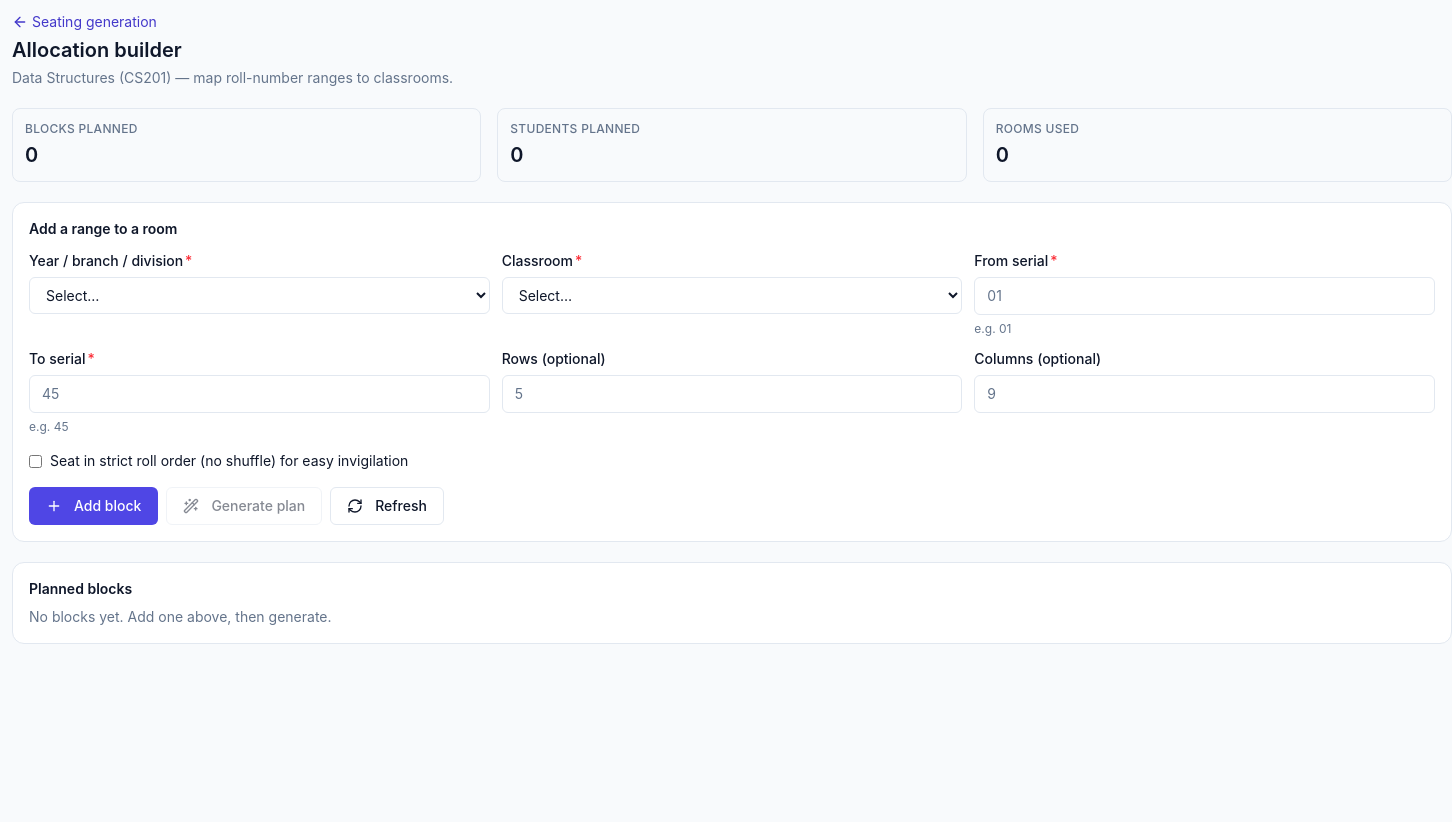
Test case: AllocationBuilderPage › surfaces the structured reason when a block is rejected
Select "SE · AIDS · C (30)" in the dropdown labelled "Year / branch / division*" at (259, 296), box [29,277,490,314]
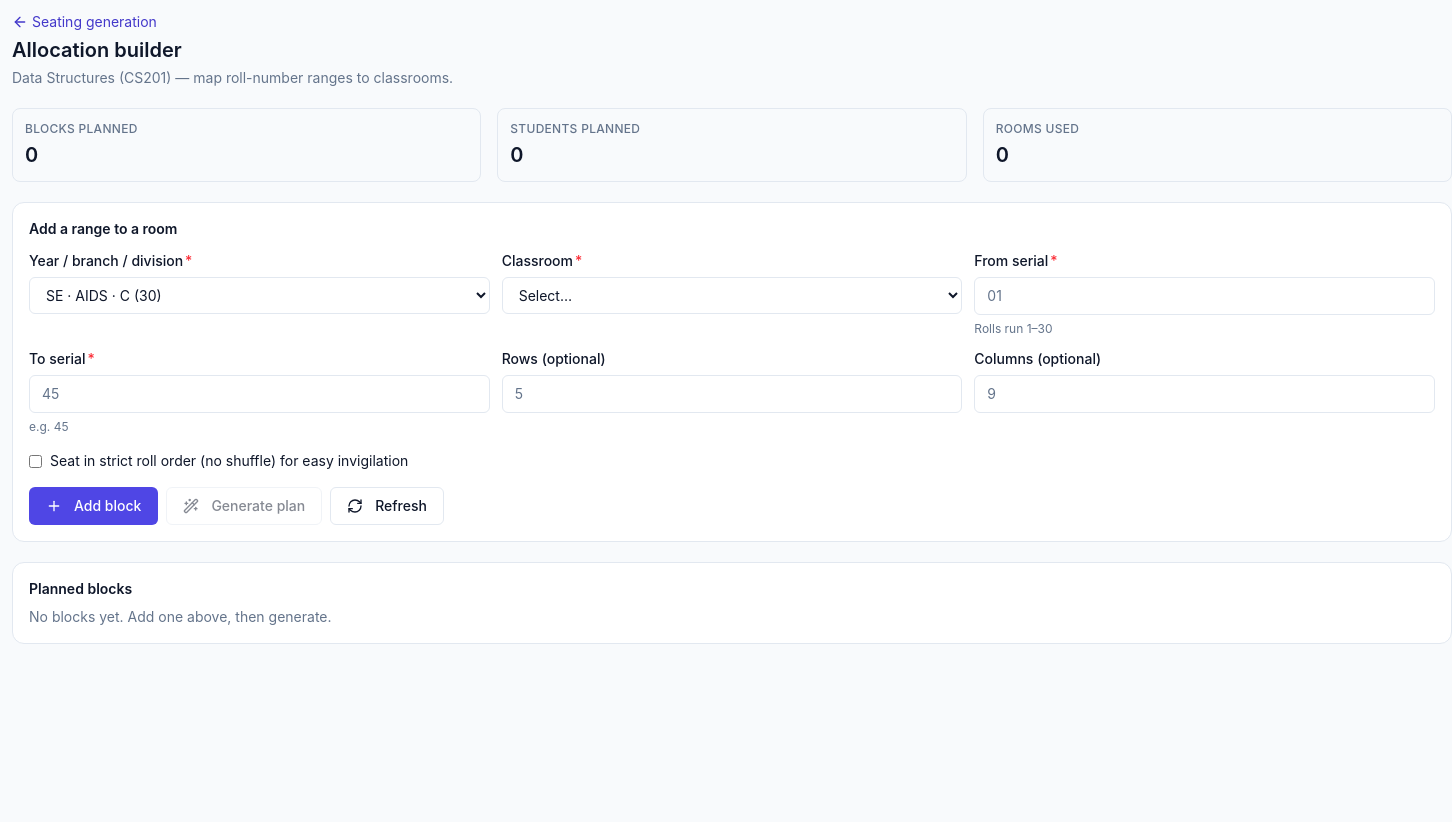
Select "706 · Floor 7 (60 free)" in the dropdown labelled "Classroom*" at (732, 296), box [502,277,962,314]
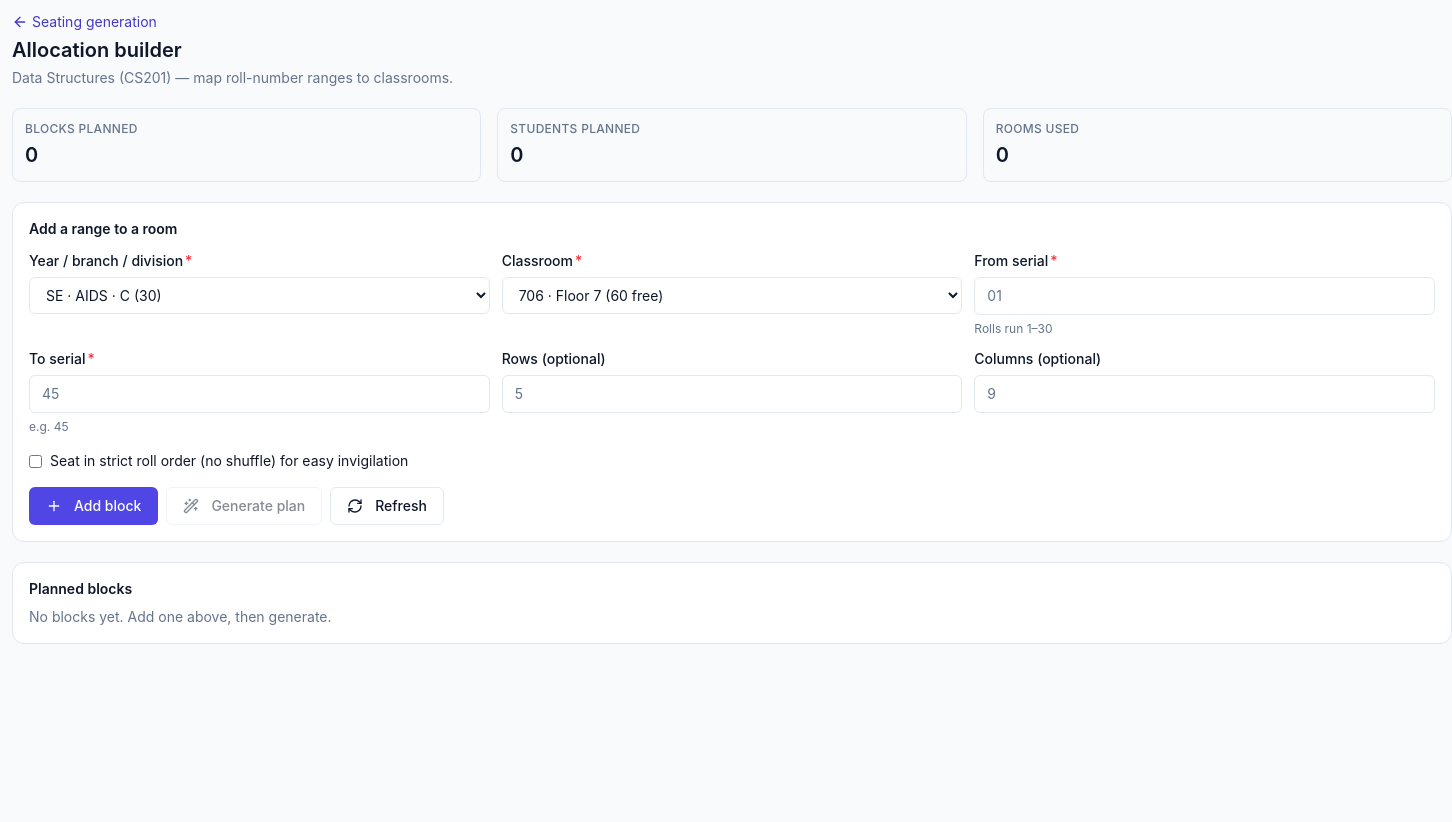
Type "1" into the number field labelled "From serial*" at (1205, 296), box [974,277,1435,315]
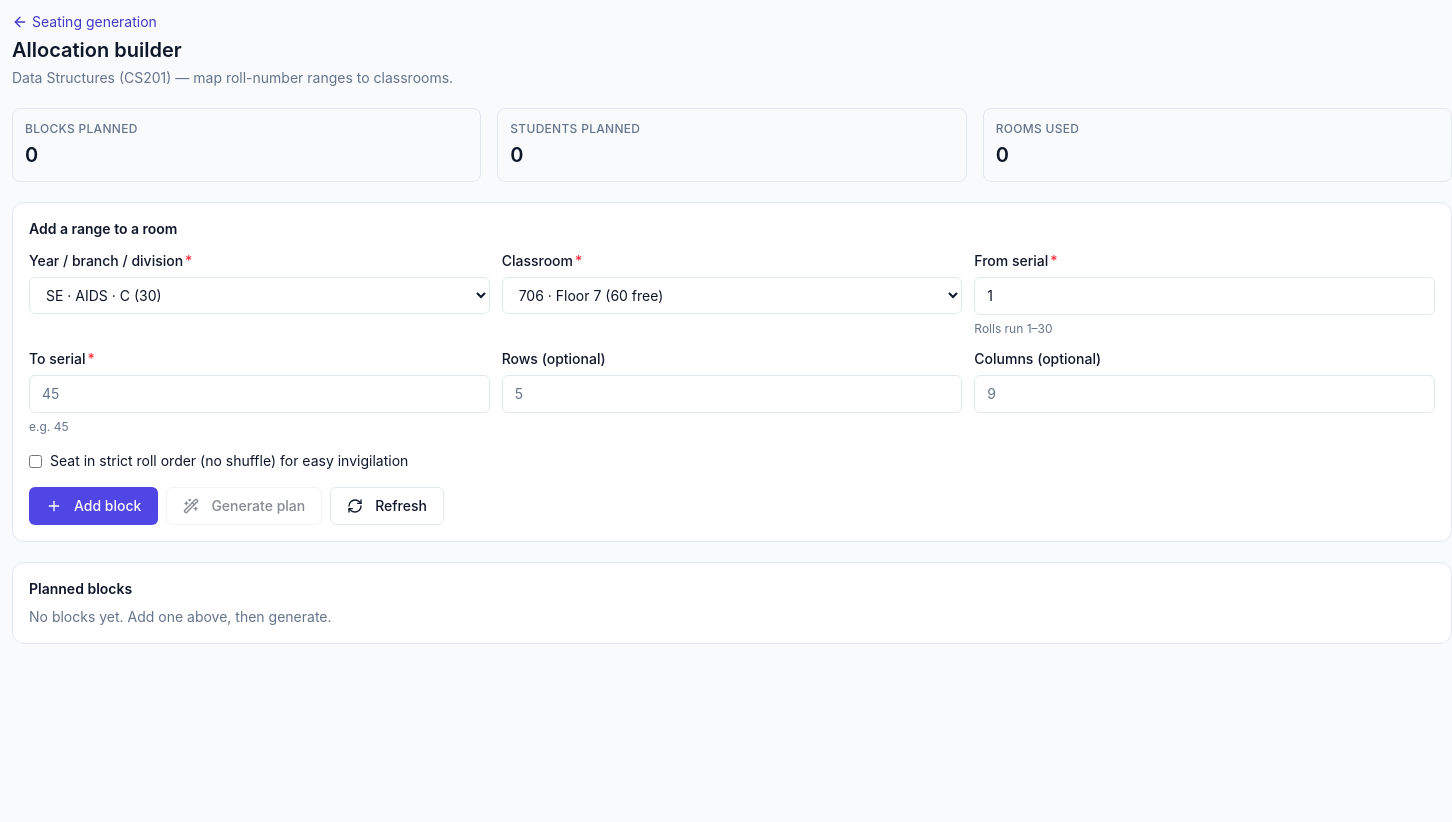
Type "20" into the number field labelled "To serial*" at (259, 394), box [29,375,490,413]
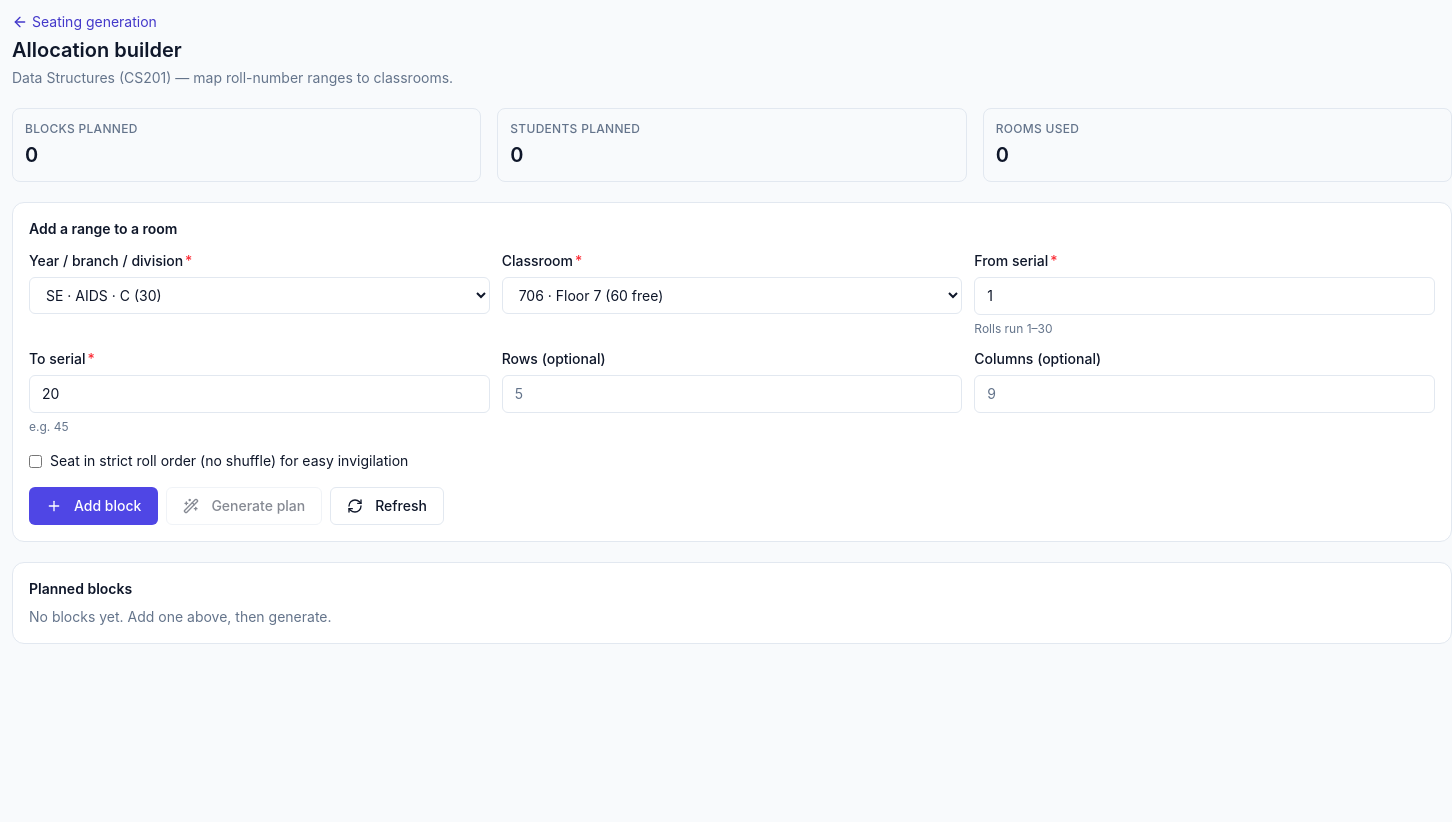
Click the button "Add block" at (94, 506), box [29,487,158,525]
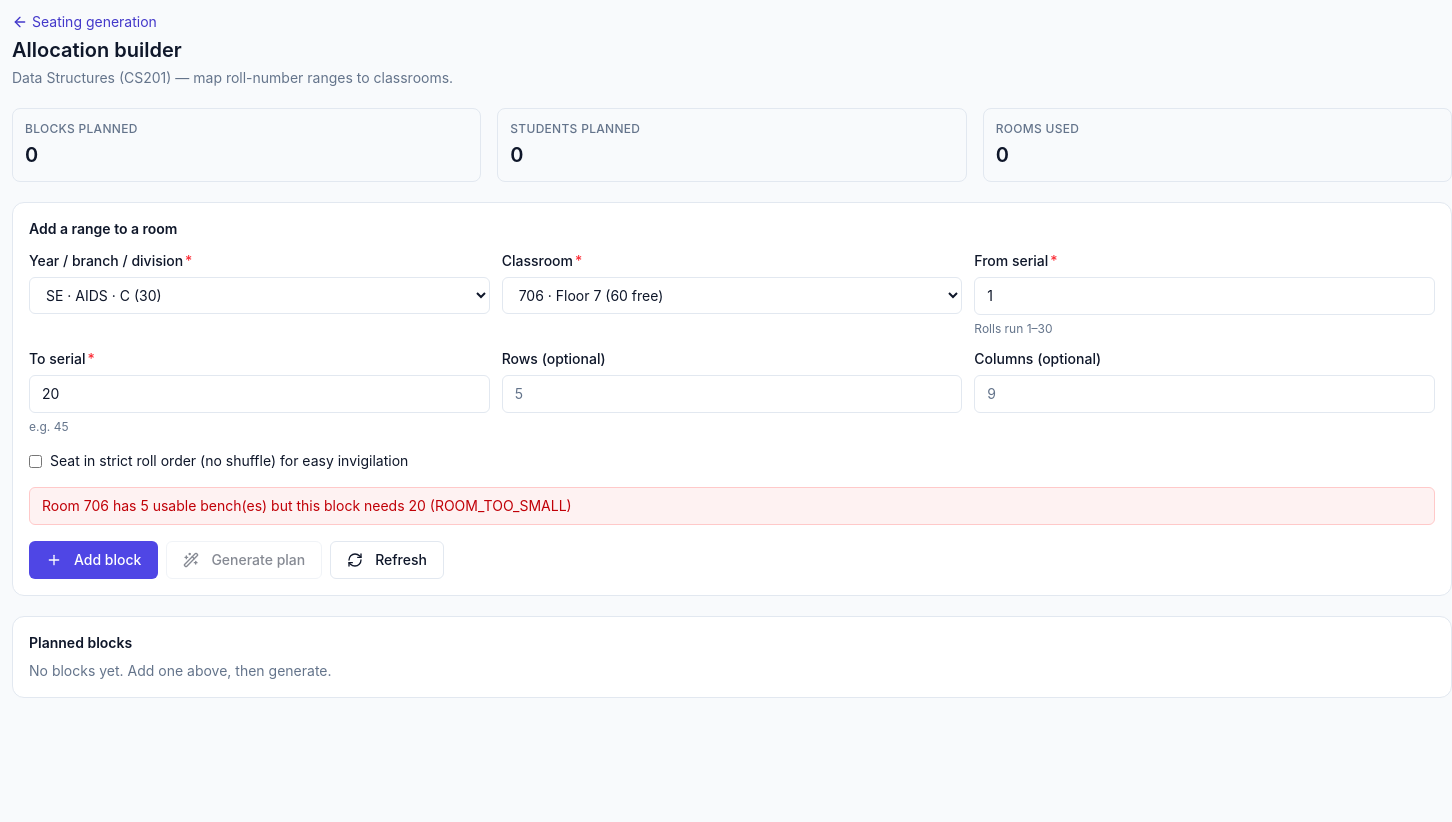
Expected: the message shows "ROOM_TOO_SMALL", [42,497,572,514]
Expected: the message shows "needs 20", [42,497,572,514]
